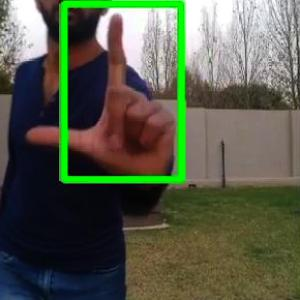land_hand: (24, 10, 177, 180)
